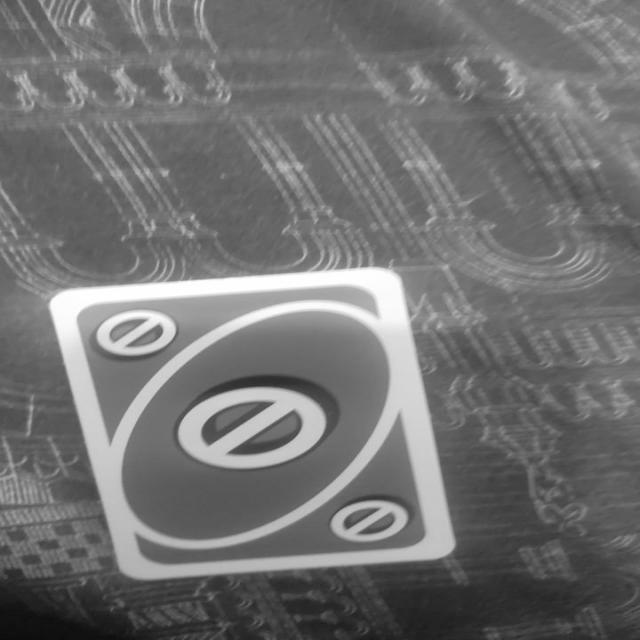skip_card: (47, 266, 457, 581)
